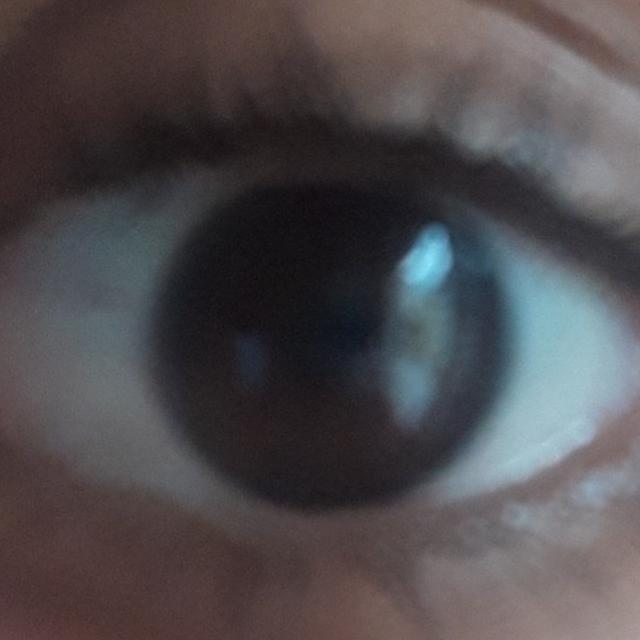eye: (0, 159, 640, 522)
iris: (138, 190, 502, 503)
